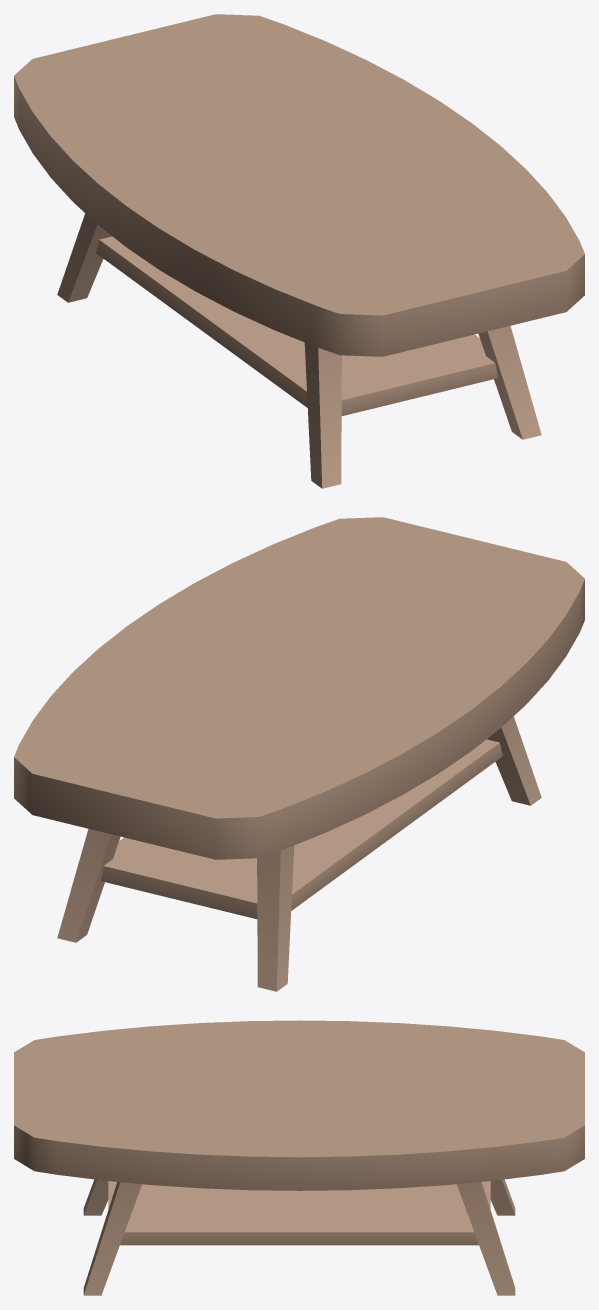
Rendered from table-coffee-ellipse-squircle-shelf.glb.
3 renders of one model, top to bottom at view 1: azimuth 30°, elevation 25°; view 2: azimuth 150°, elevation 25°; view 3: azimuth 270°, elevation 25°, orthographic. The views are drawn at different scales.
Parts seen in each view (by area): view 1: table-coffee-ellipse-squircle-shelf; view 2: table-coffee-ellipse-squircle-shelf; view 3: table-coffee-ellipse-squircle-shelf.
Boxes of the visible parts, <box> form: table-coffee-ellipse-squircle-shelf: <box>14,14,584,488</box>; table-coffee-ellipse-squircle-shelf: <box>14,517,584,991</box>; table-coffee-ellipse-squircle-shelf: <box>14,1020,584,1295</box>.
Size of the model in its own units: 0.68 by 0.378 by 1.2.
